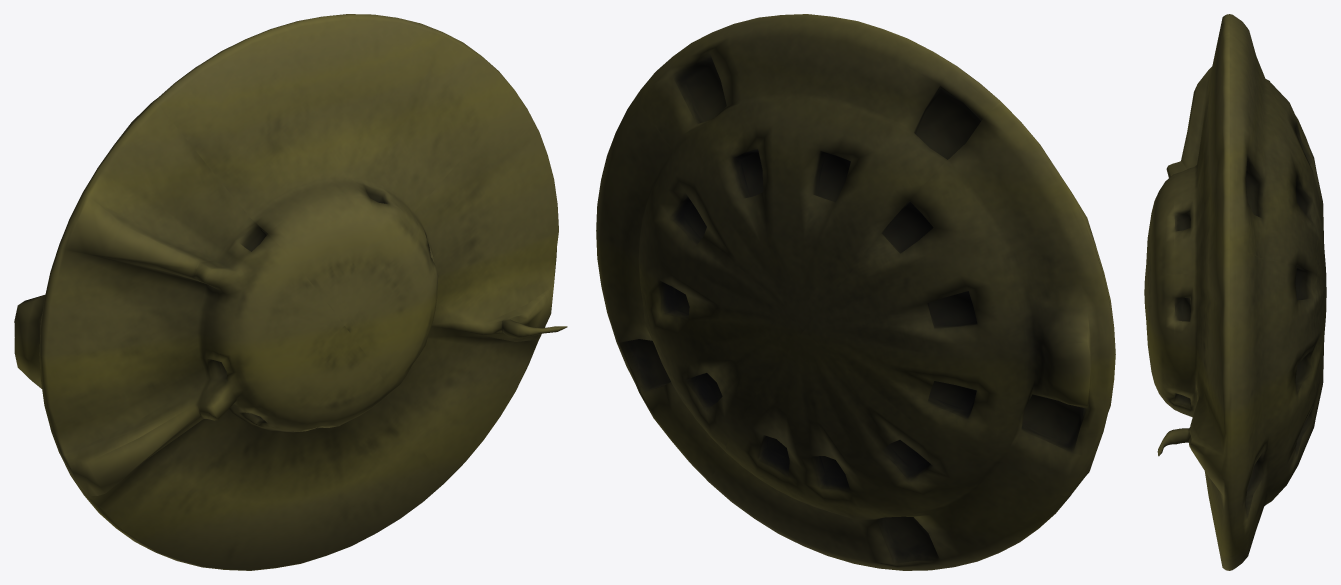
Rendered from ufo.obj.
3 renders of one model, left to right at view 1: azimuth 30°, elevation 25°; view 2: azimuth 150°, elevation 25°; view 3: azimuth 270°, elevation 25°, orthographic. The views are drawn at different scales.
Bounding box in the file's own units: 4.74 × 4.74 × 1.55.
1 material, 1 textured.
